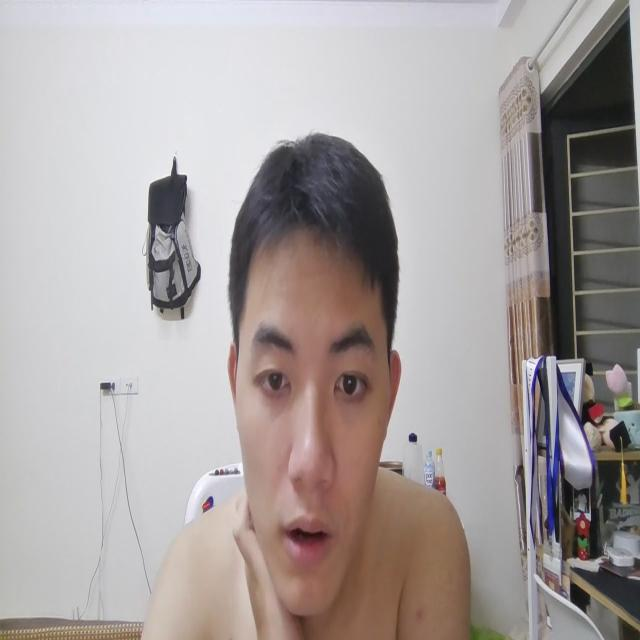student: (207, 136, 409, 634)
